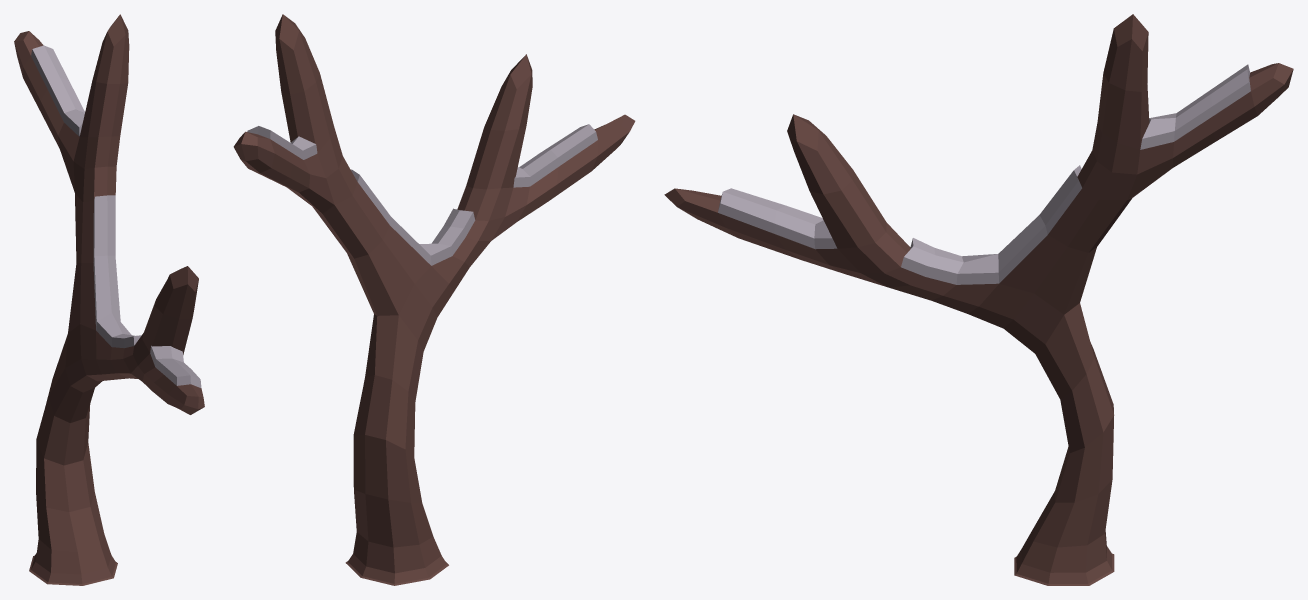
The picture shows the model from 3 angles, left to right: view 1: azimuth 30°, elevation 25°; view 2: azimuth 150°, elevation 25°; view 3: azimuth 270°, elevation 25°; orthographic projection. The views are drawn at different scales.
Parts seen in each view (by area): view 1: Willow_Dead_Snow_5; view 2: Willow_Dead_Snow_5; view 3: Willow_Dead_Snow_5.
Part boxes in pixels (box(x1,y1,x2,y2)): Willow_Dead_Snow_5: box(14, 14, 204, 585); Willow_Dead_Snow_5: box(233, 14, 635, 585); Willow_Dead_Snow_5: box(664, 14, 1293, 585).
Size of the model in its own units: 0.567 by 2.04 by 1.95.
